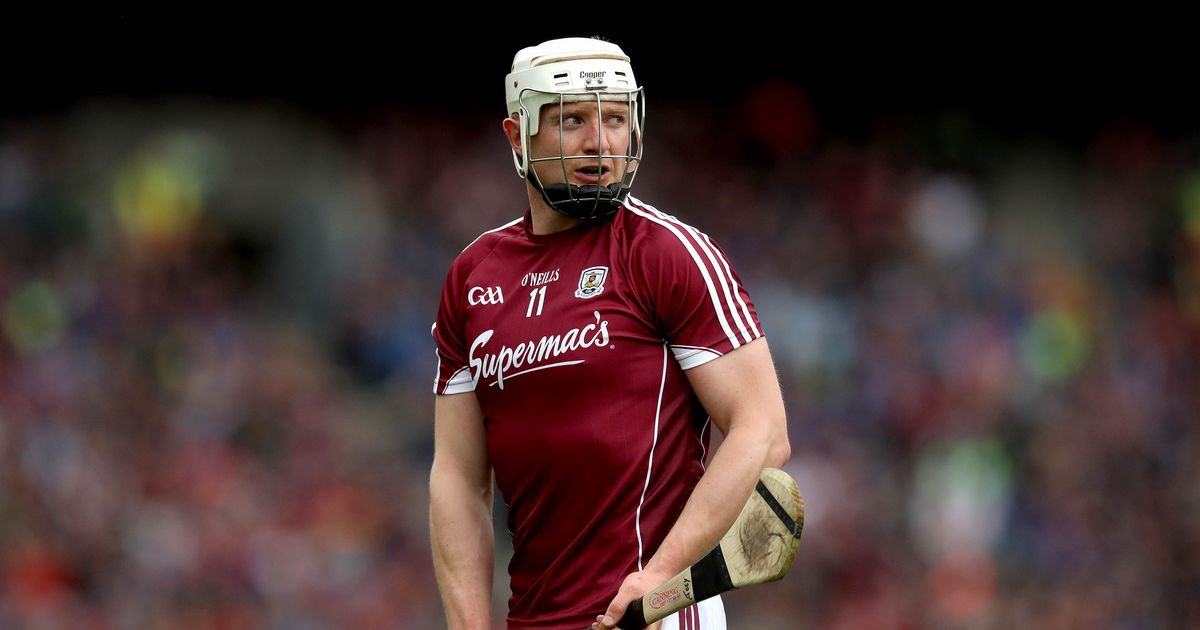player: (432, 41, 788, 621)
